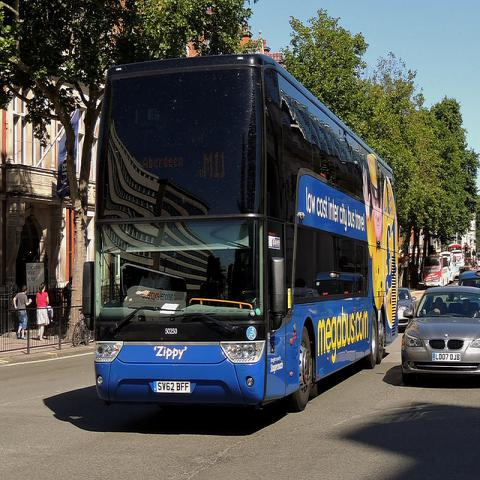bus: (81, 55, 399, 414)
car: (401, 286, 479, 388), (422, 256, 450, 286), (398, 287, 417, 328), (460, 270, 479, 290)
truck: (422, 254, 450, 288), (438, 252, 457, 283)
